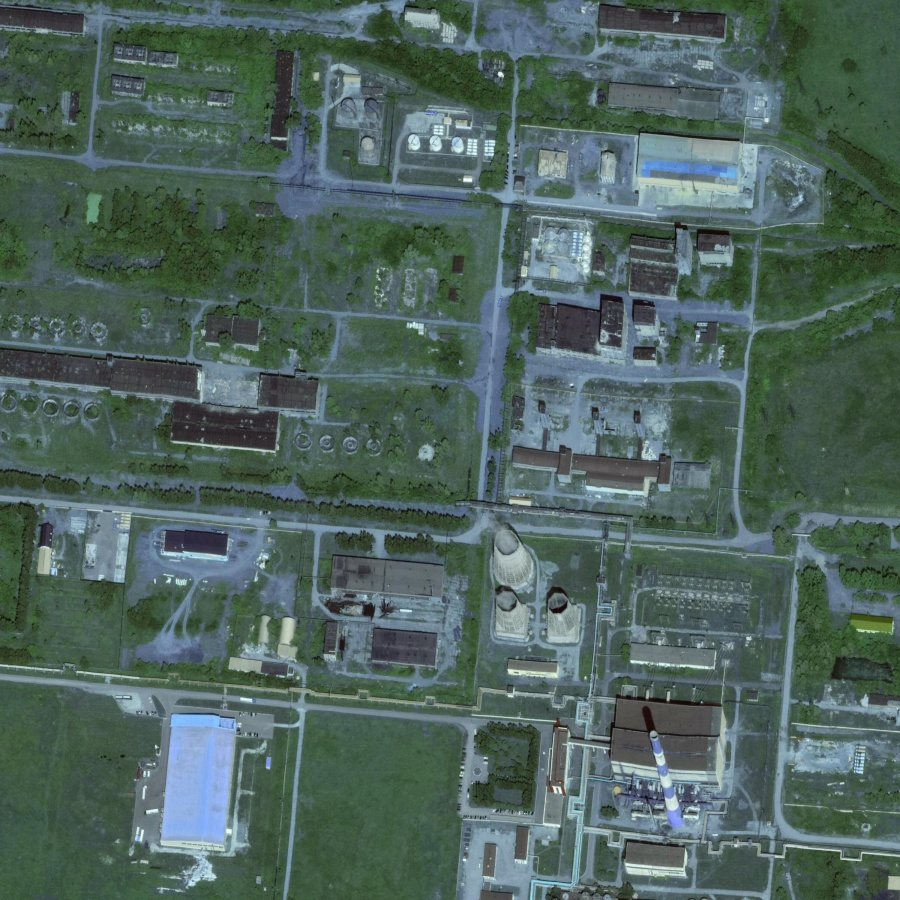PowerPlant: (464, 519, 757, 878)
